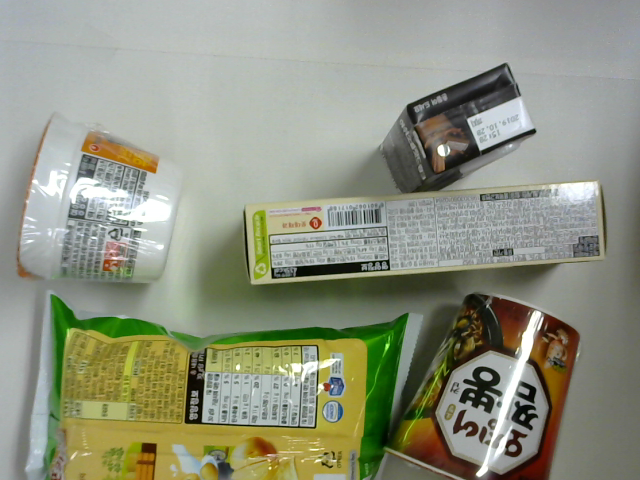Chicchok_Tiramisu: (227, 165, 608, 298)
Hush_Choco_Drink: (370, 56, 546, 186)
Ojjam: (405, 304, 581, 480)
Pocachip_Onion: (38, 299, 382, 480)
Udongmini: (1, 119, 172, 300)
